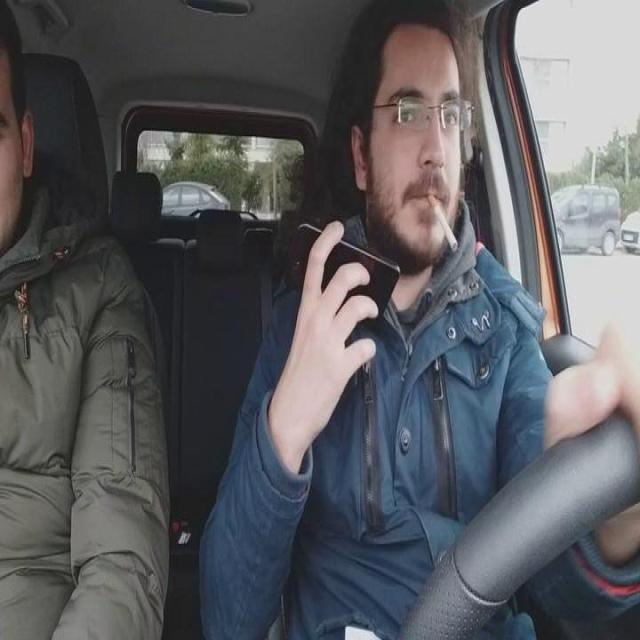phone: (286, 222, 402, 316)
